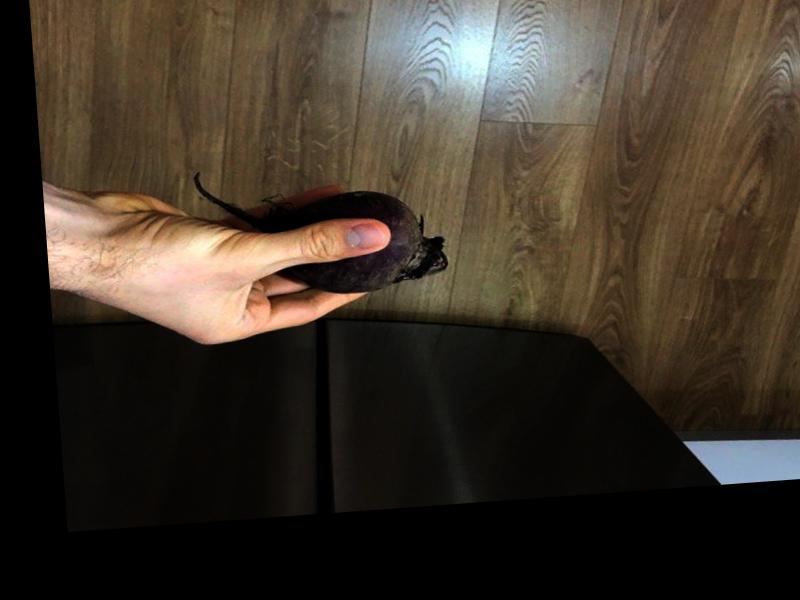Beet: (196, 153, 451, 304)
